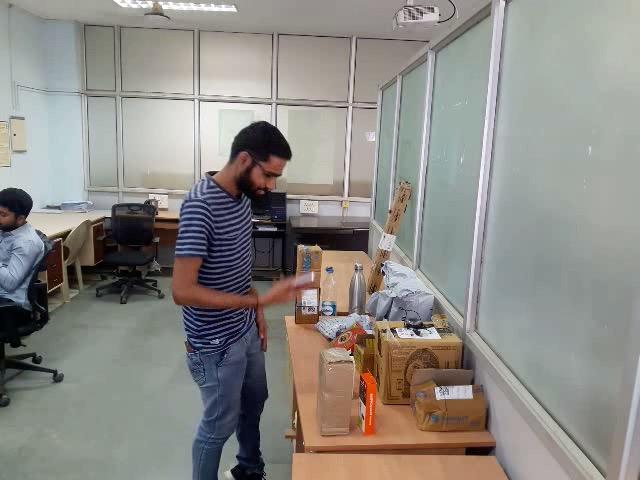Normal: (117, 84, 640, 480)
